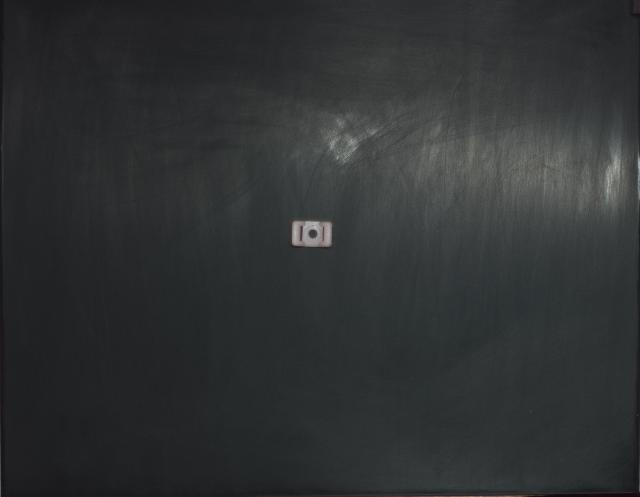first_side: (291, 221, 332, 248)
